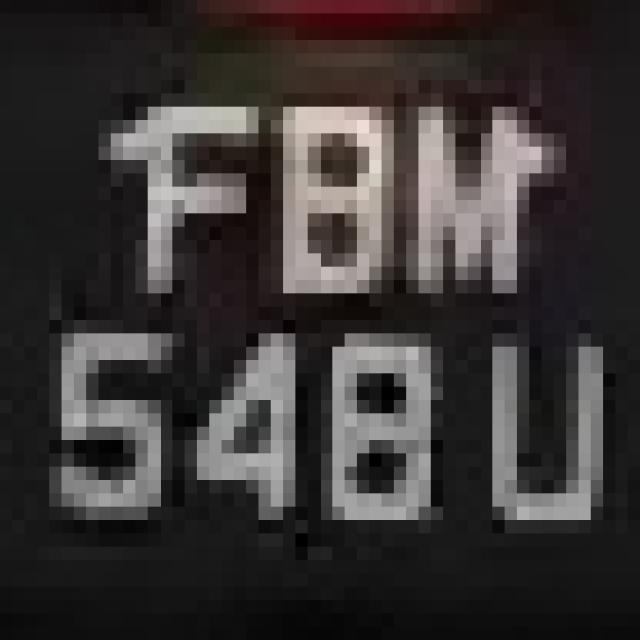4: (172, 320, 320, 560)
5: (12, 280, 197, 533)
8: (308, 294, 430, 574)
B: (246, 67, 406, 320)
F: (86, 80, 271, 333)
M: (357, 53, 541, 307)
U: (467, 320, 640, 546)
